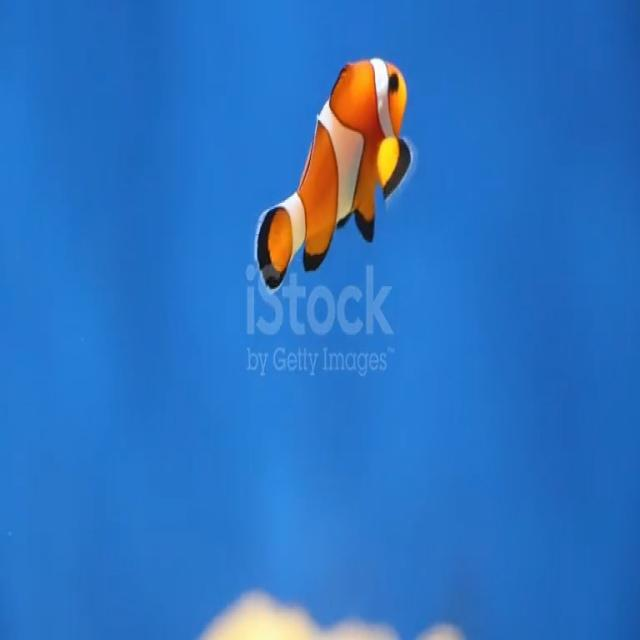fish: (254, 39, 418, 294)
